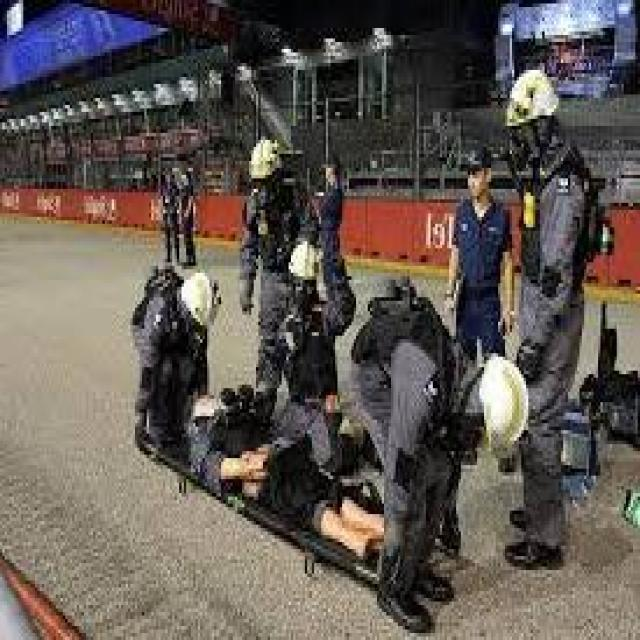Safety-Helmet: (475, 349, 536, 460), (498, 63, 566, 136), (175, 270, 227, 325), (244, 135, 288, 181)
